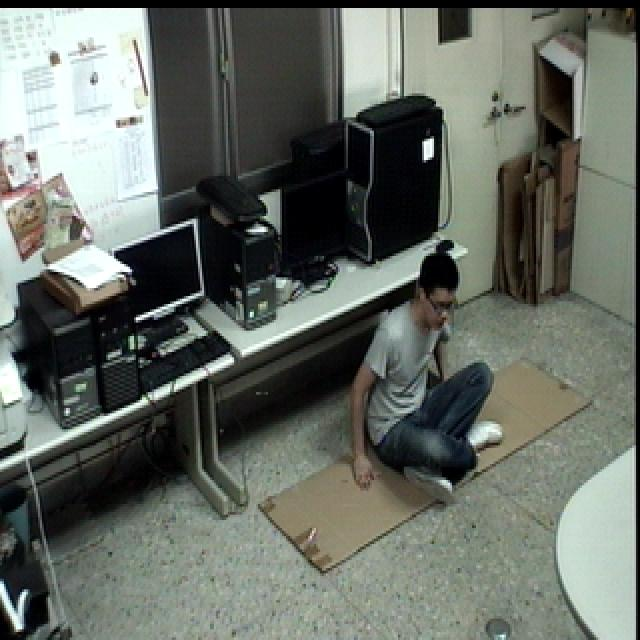sit: (344, 246, 506, 504)
